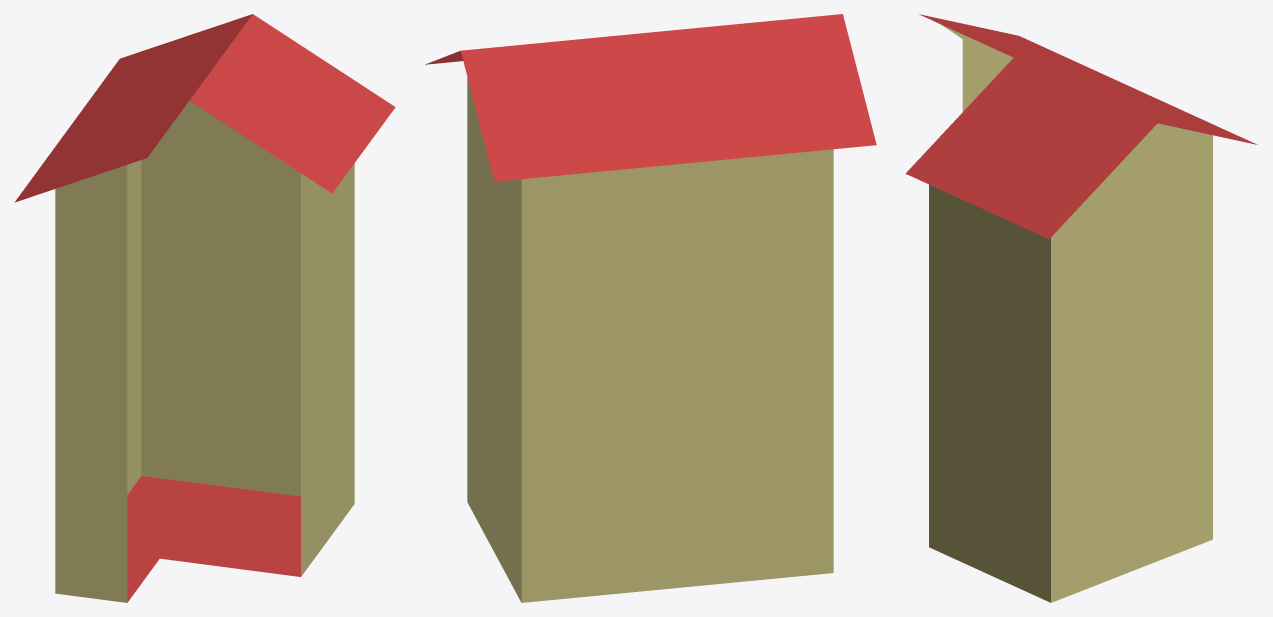
3 renders of one model, left to right at view 1: azimuth 30°, elevation 25°; view 2: azimuth 150°, elevation 25°; view 3: azimuth 270°, elevation 25°, orthographic. The views are drawn at different scales.
Bounding box in the file's own units: 10.5 × 8.2 × 11.69.
